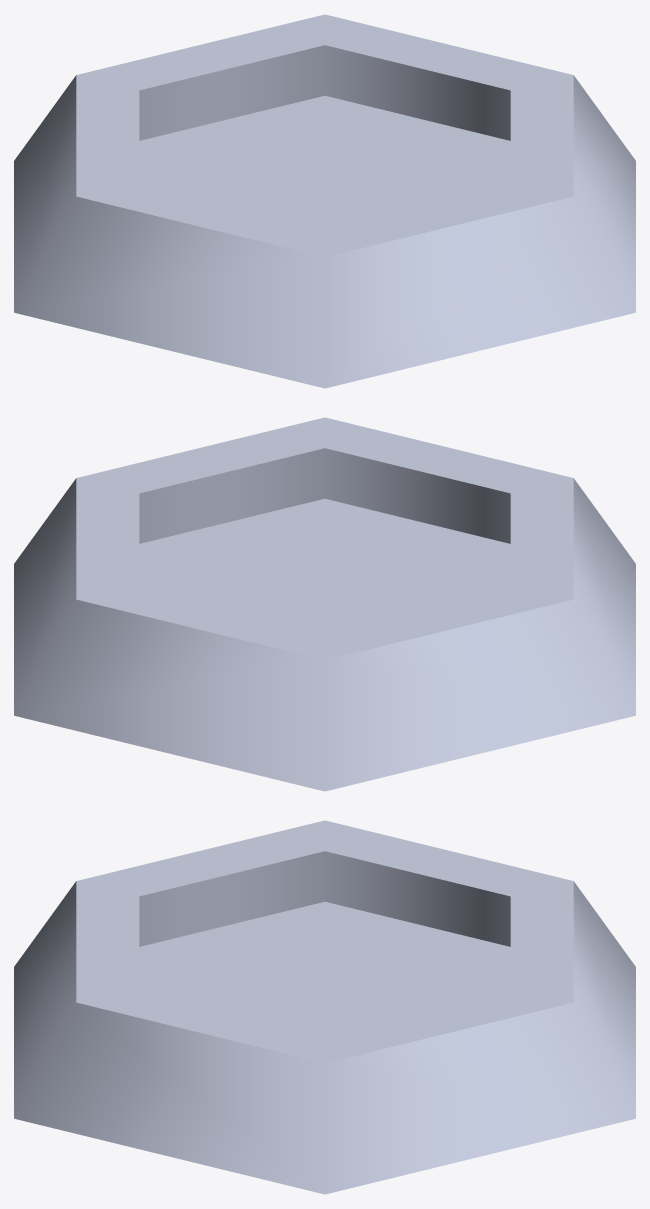
Rendered from buttonRound-col.glb.
3 views of the same model, one above another, from view 1: azimuth 30°, elevation 25°; view 2: azimuth 150°, elevation 25°; view 3: azimuth 270°, elevation 25° (orthographic).
Visible parts, largest first — view 1: buttonRound-col; view 2: buttonRound-col; view 3: buttonRound-col.
Part boxes in pixels (bbox=[...]): buttonRound-col: bbox=[14, 14, 635, 388]; buttonRound-col: bbox=[14, 417, 635, 791]; buttonRound-col: bbox=[14, 820, 635, 1194].
Size of the model in its own units: 0.58 by 0.09 by 0.5023.
